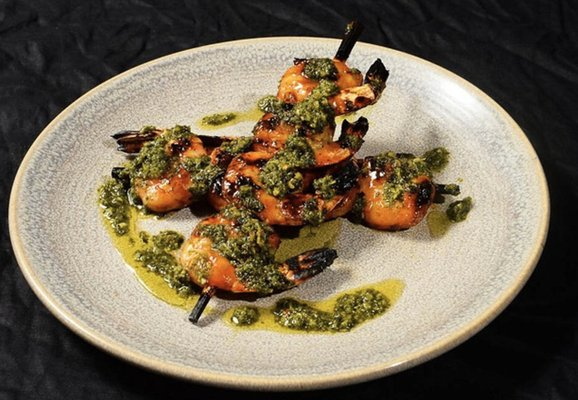curry: (192, 192, 295, 295), (258, 135, 317, 199), (302, 58, 339, 81)
sushi: (18, 34, 550, 384)
